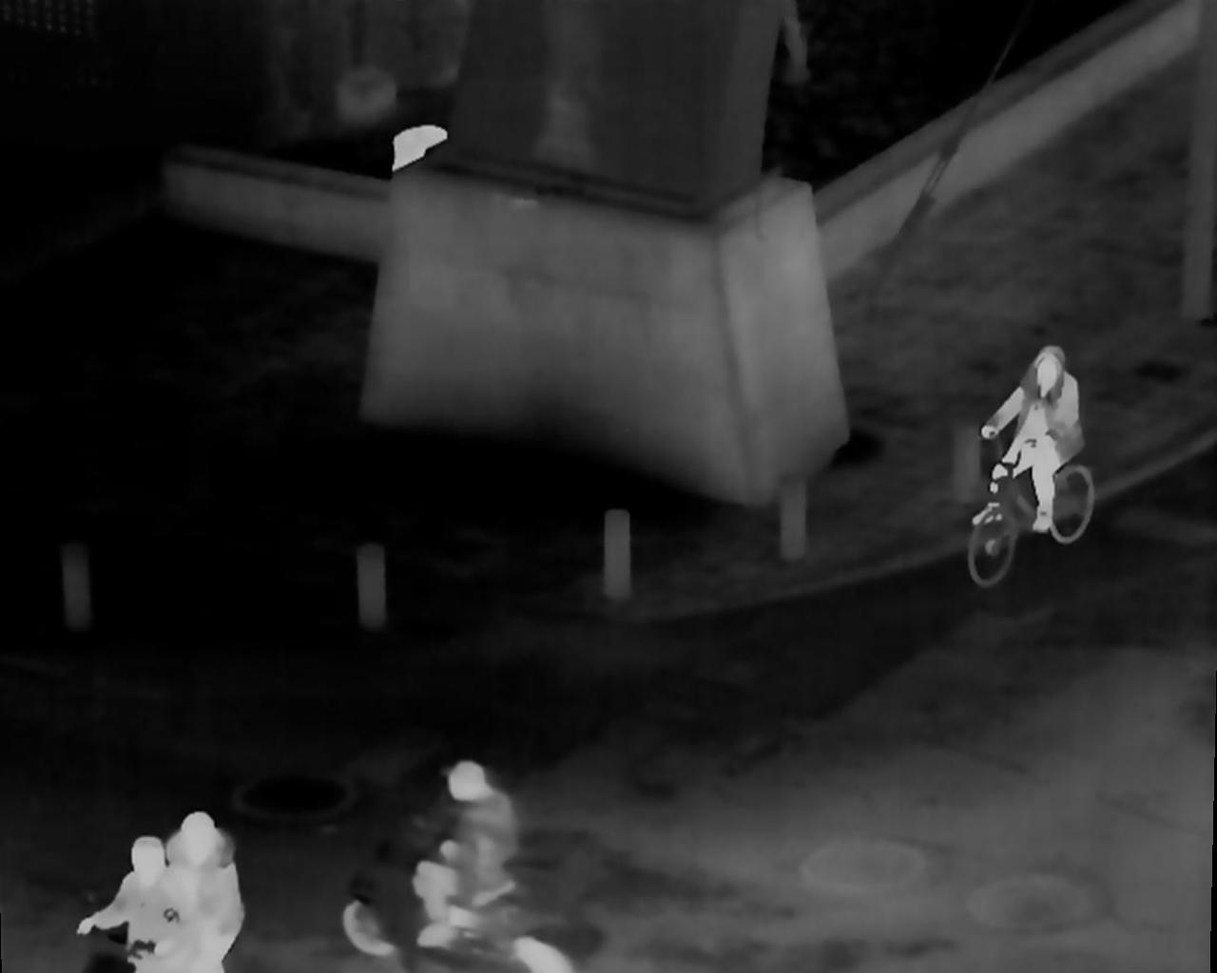person: (987, 348, 1081, 540), (425, 764, 517, 942), (82, 840, 198, 967), (164, 814, 252, 973)
